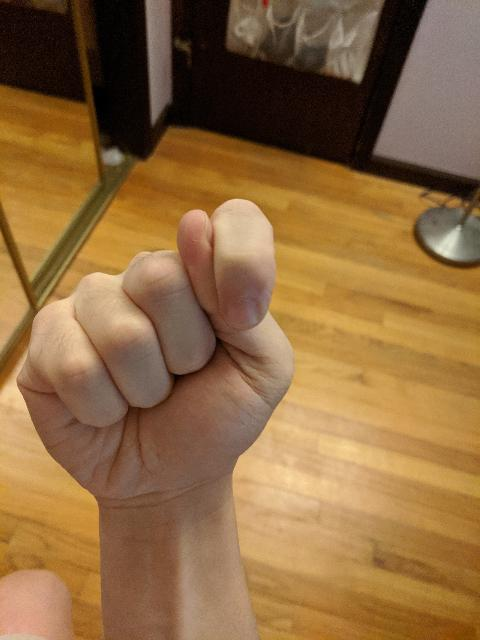T: (10, 192, 304, 510)
